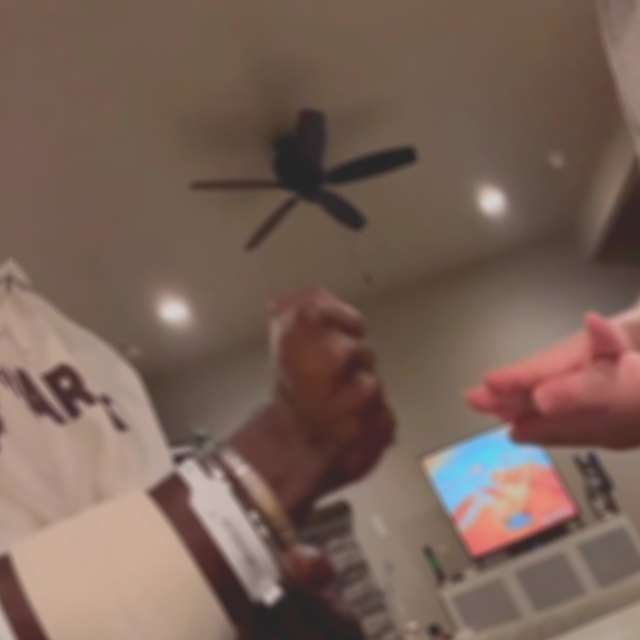Paper: (444, 291, 640, 447)
Rock: (219, 259, 453, 501)
